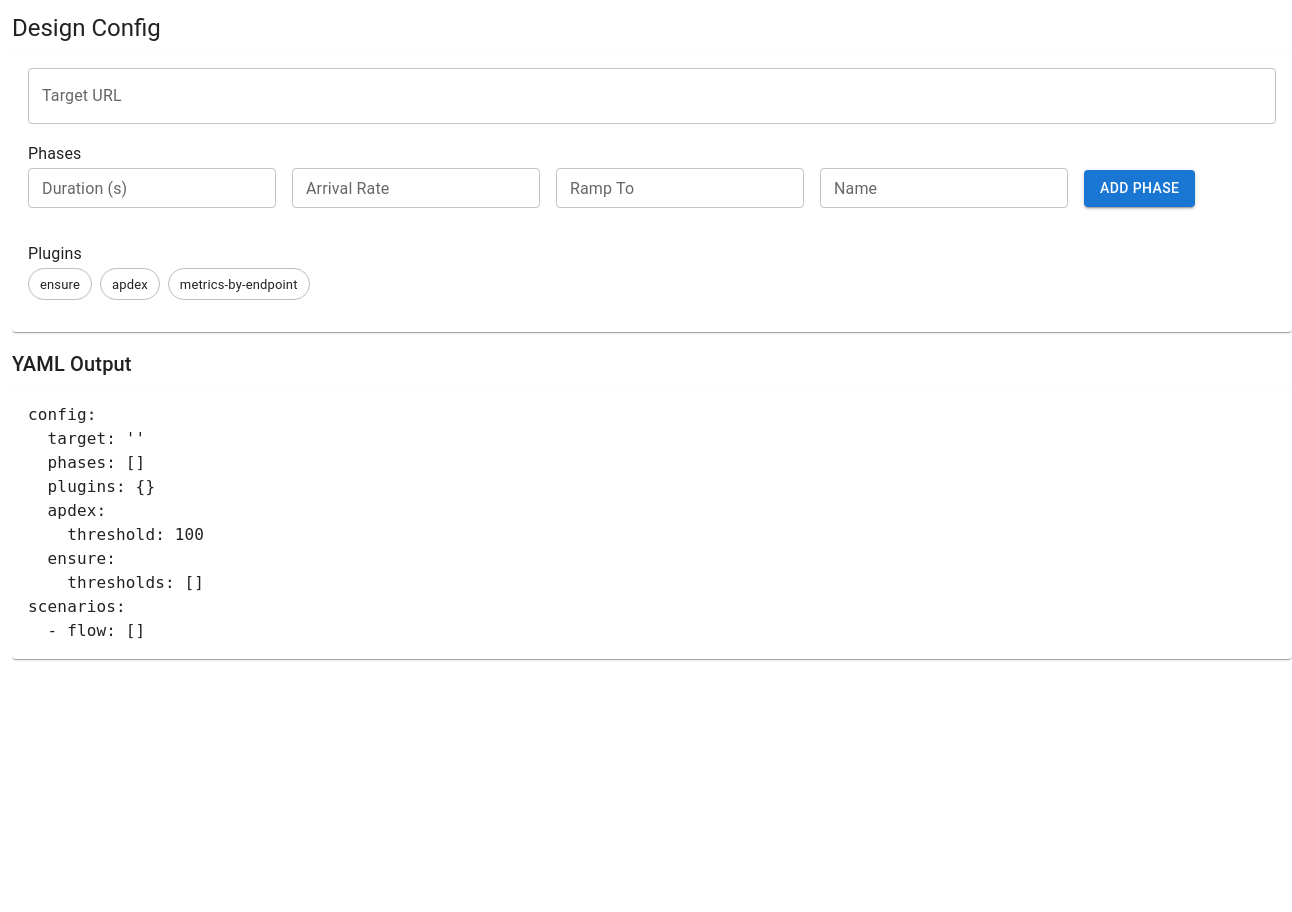
Test case: ConfigDesigner › can add a phase
The width and height of the screenshot is (1292, 912).
Type "10" into the number field labelled "Duration (s)" at point(152, 188), box [28,168,276,208]
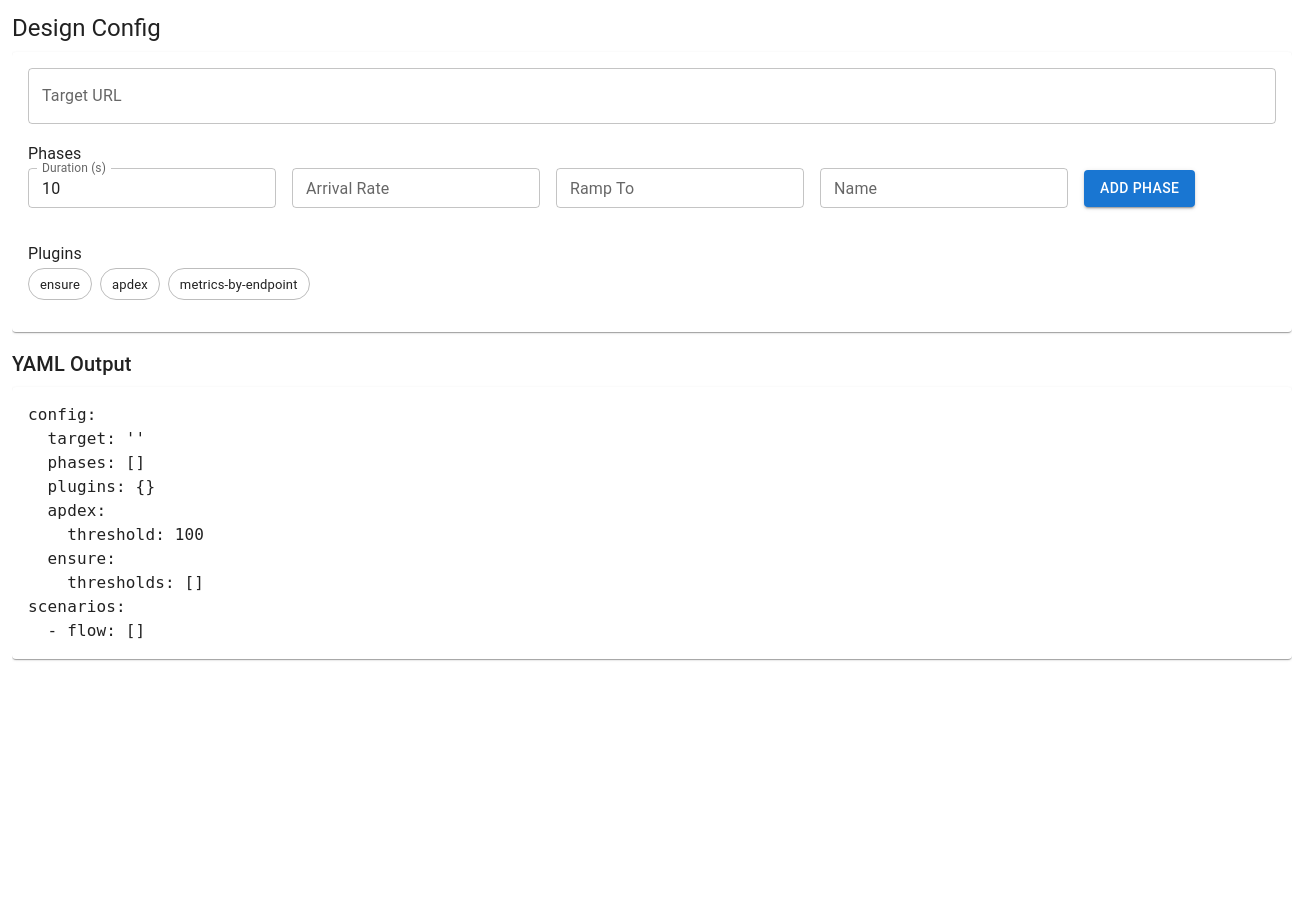
Type "5" into the number field labelled "Arrival Rate" at point(416, 188), box [292,168,540,208]
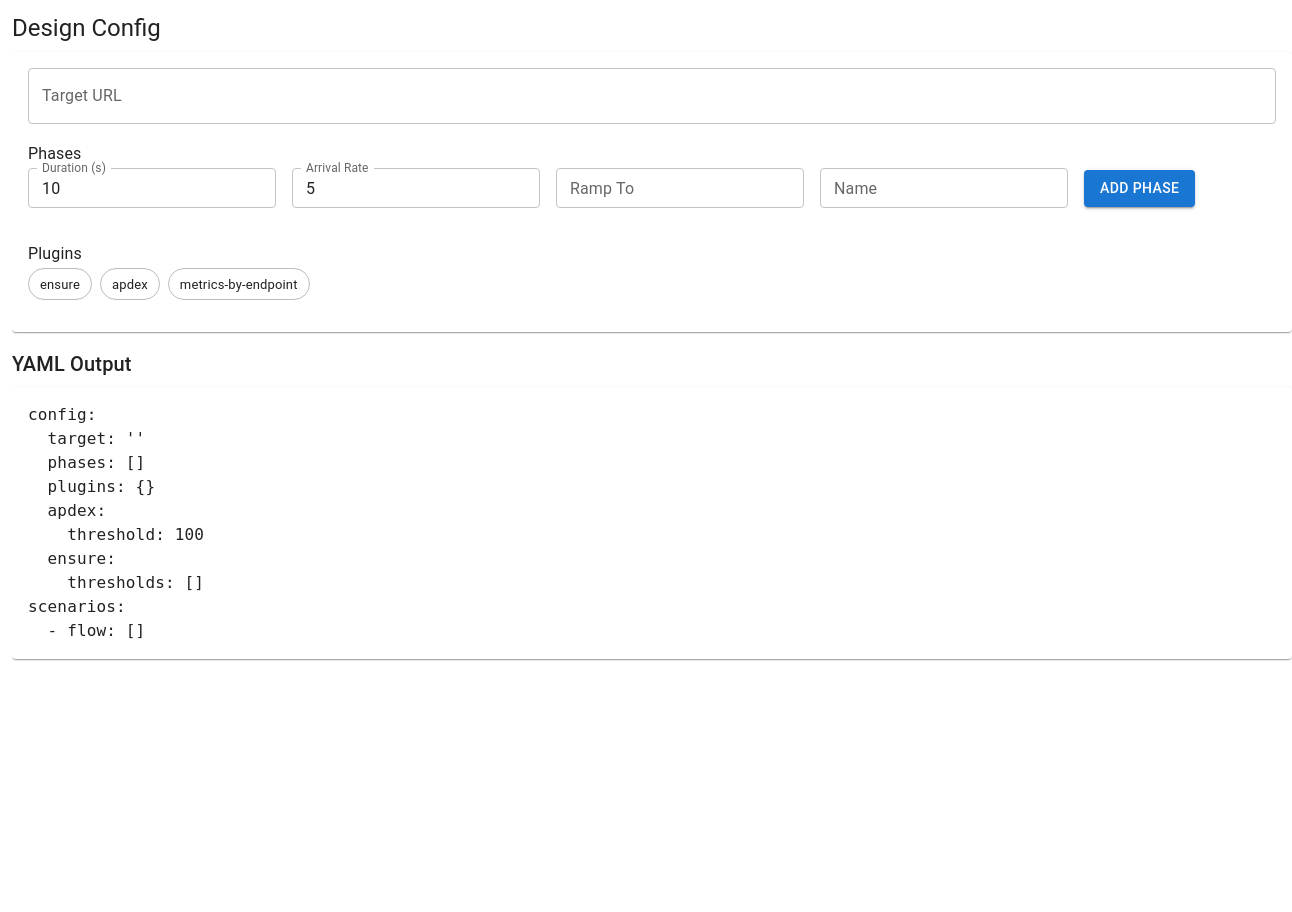
Type "8" into the number field labelled "Ramp To" at point(680, 188), box [556,168,804,208]
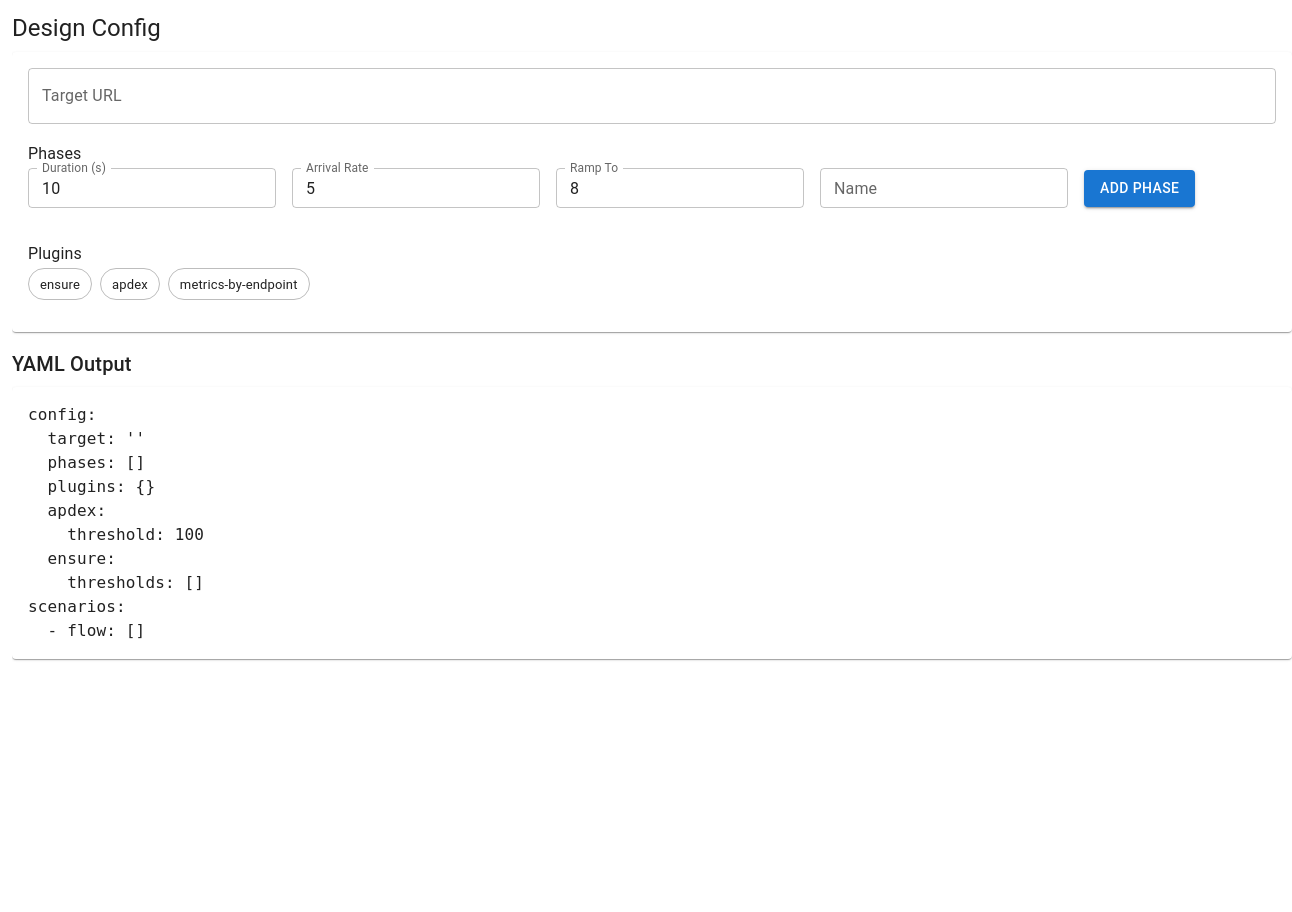
Type "Phase 1" into the field labelled "Name" at point(944, 188), box [820,168,1068,208]
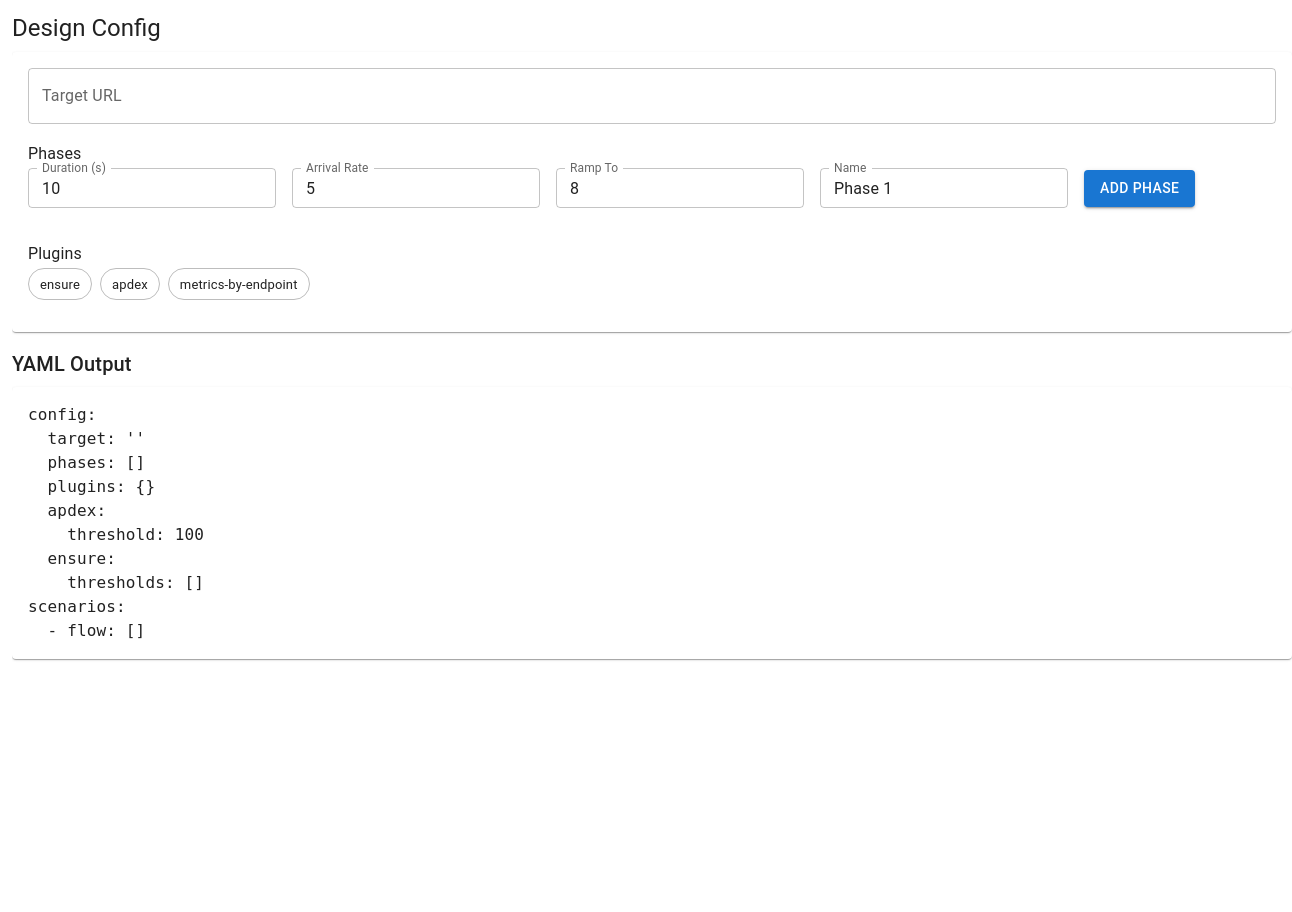
Click the button "Add Phase" at point(1140, 188), box [1084,170,1195,207]
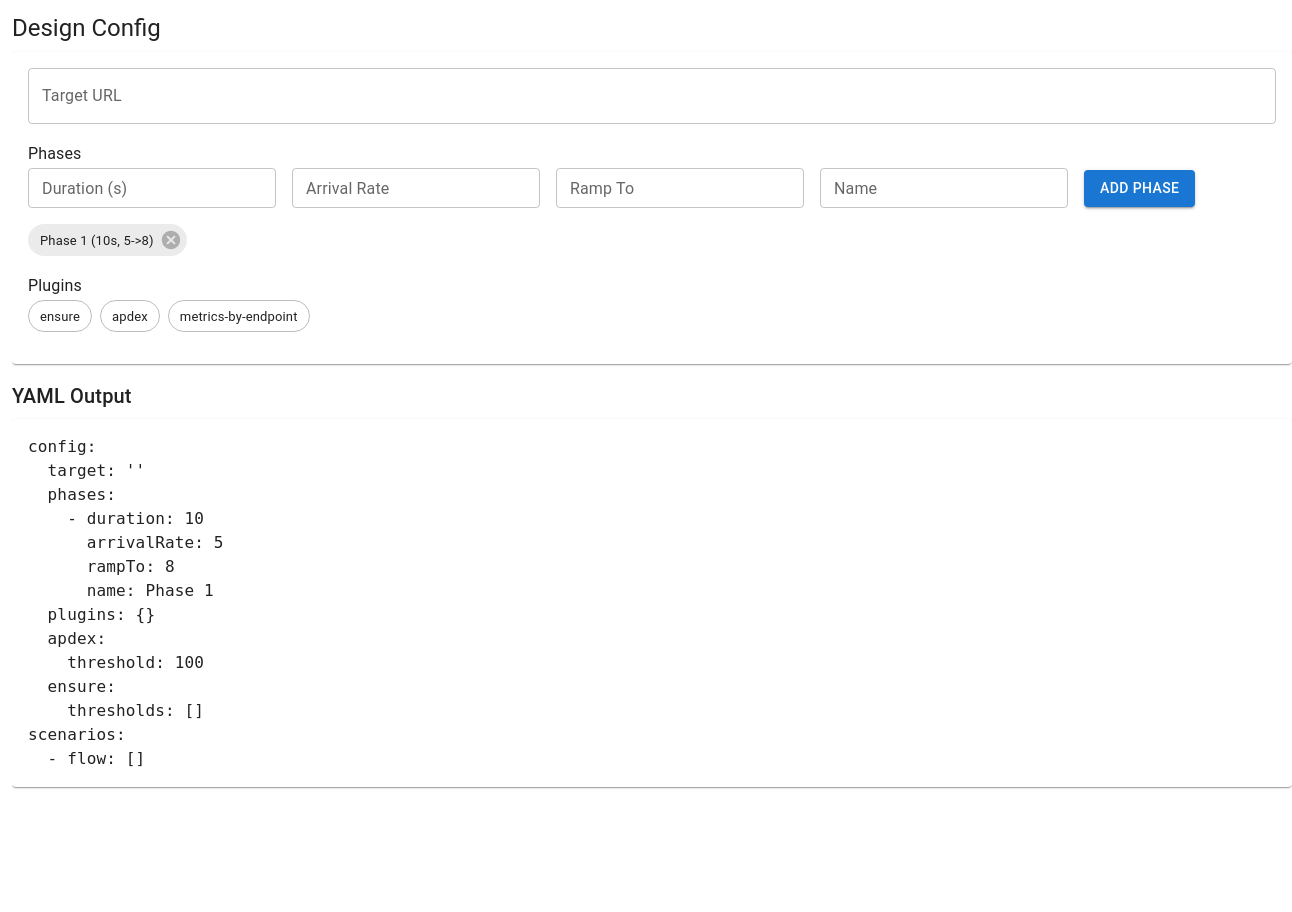
Expected: the text "Phase 1 (10s, 5->8)" is shown, [40,233,154,248]
